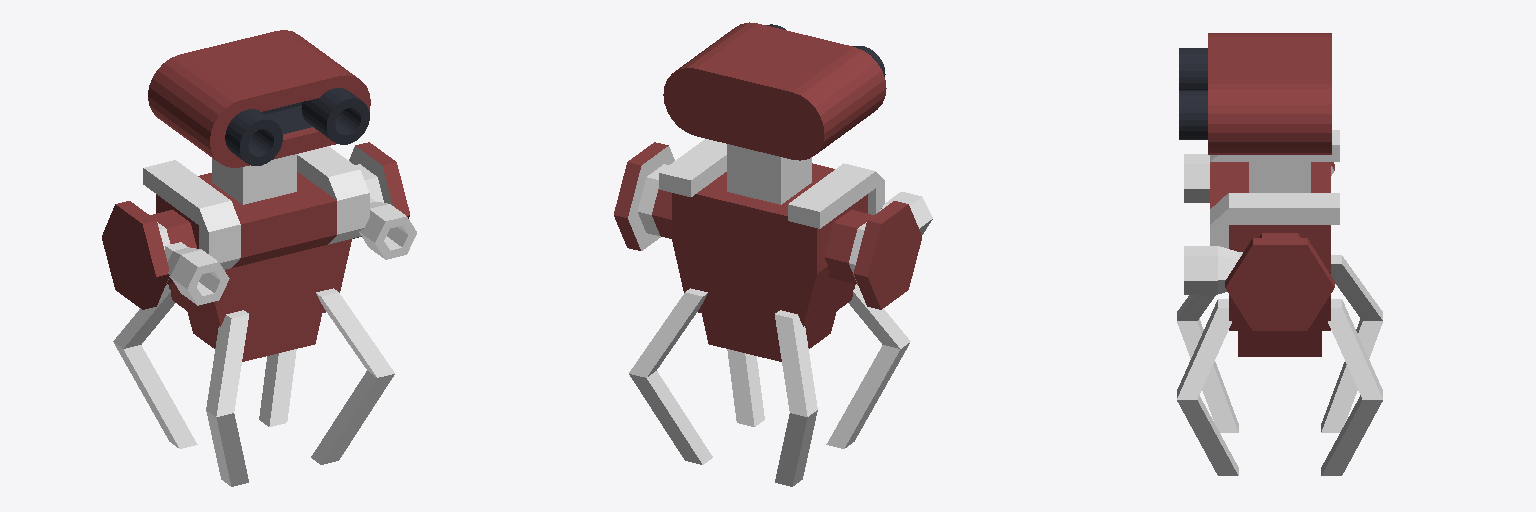
File: walking_03_02.obj
3 renders of one model, left to right at view 1: azimuth 30°, elevation 25°; view 2: azimuth 150°, elevation 25°; view 3: azimuth 270°, elevation 25°, orthographic.
Parts seen in each view (by area): view 1: mergedBlocks; view 2: mergedBlocks; view 3: mergedBlocks.
Part boxes in pixels (bbox=[...]): mergedBlocks: bbox=[102, 30, 416, 486]; mergedBlocks: bbox=[614, 22, 932, 486]; mergedBlocks: bbox=[1177, 33, 1382, 475].
Bounding box in the file's own units: 1.42 × 2.08 × 1.